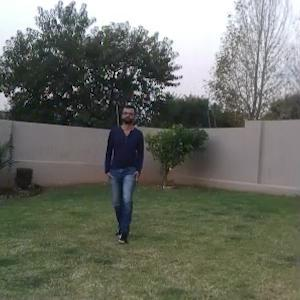follow: (100, 101, 149, 244)
